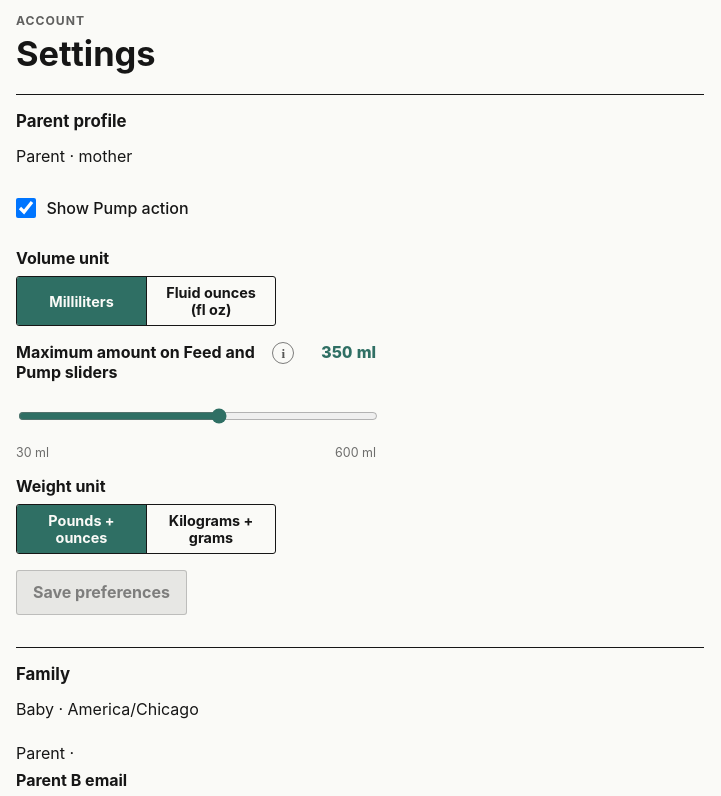
Settings volume preference › presents global volume and weight preferences with one shared maximum
Expected: the radio button named "preferred-volume-unit" holds "ml", [17,277,146,326]
Expected: the radio button named "preferred-volume-unit" is checked, [17,277,146,326]
Click the button with class "help-tooltip-trigger" at (283, 364), box [261,342,305,386]
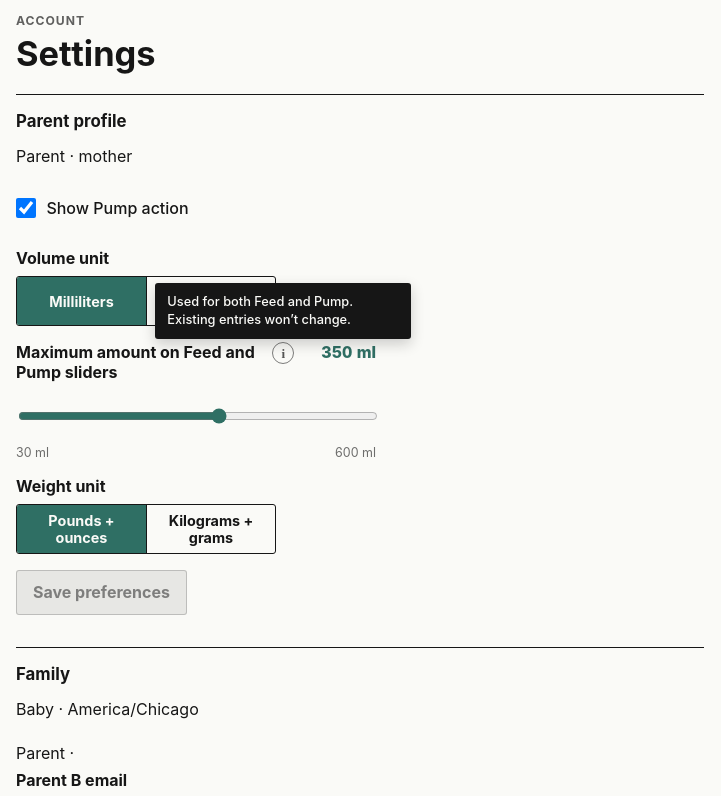
Click the radio button named "preferred-volume-unit" at (210, 301), box [146,277,275,326]
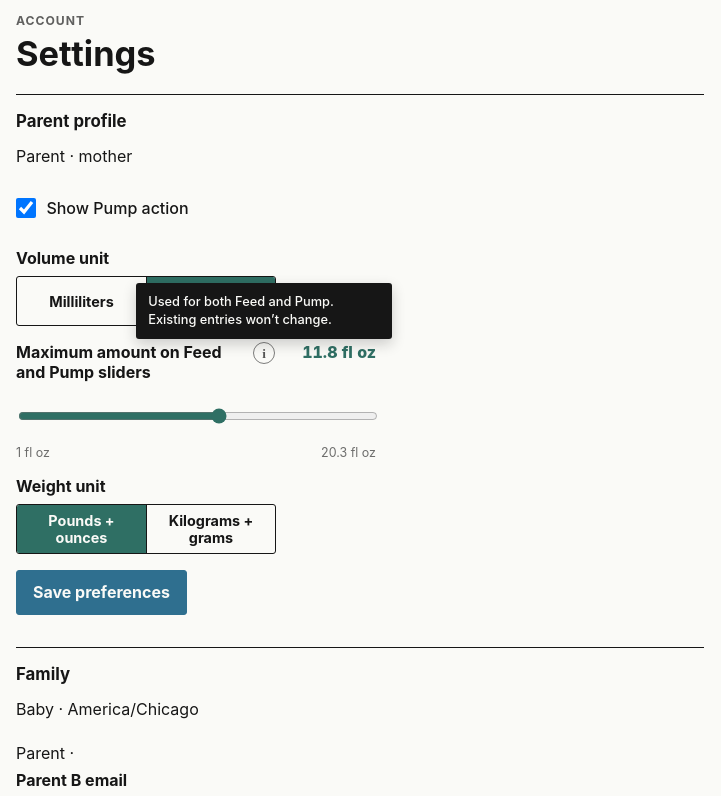
Expected: the text "11.8 fl oz" is shown, [302,342,376,362]
Expected: the button with class "settings-save" is enabled, [16,570,187,615]
Click the radio button named "preferred-volume-unit" at (82, 301), box [49,293,114,310]
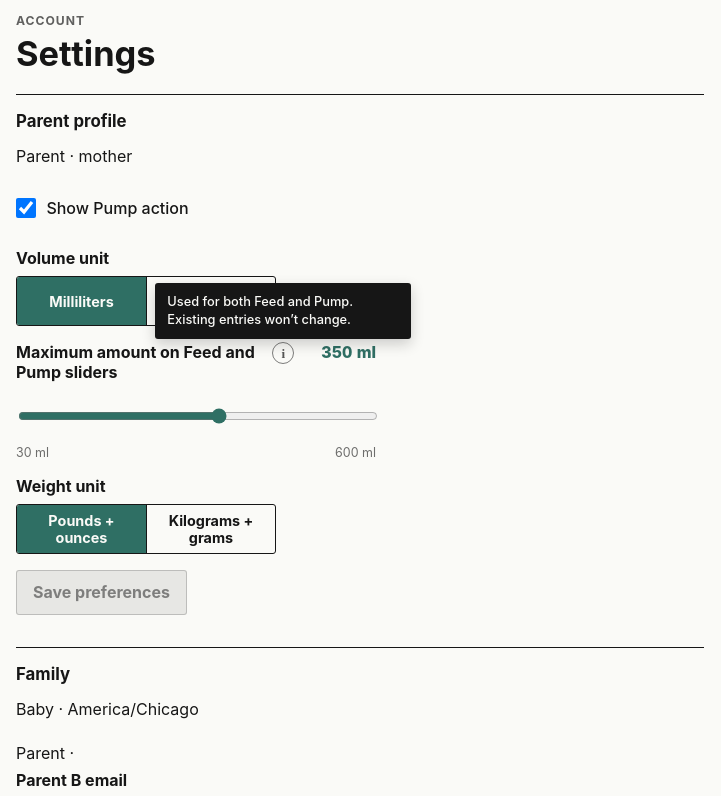
Expected: the button with class "settings-save" is disabled, [16,570,187,615]
Set the slider labelled "Maximum amount on Feed and Pump sliders" to "90" at (62, 416), box [18,392,378,440]
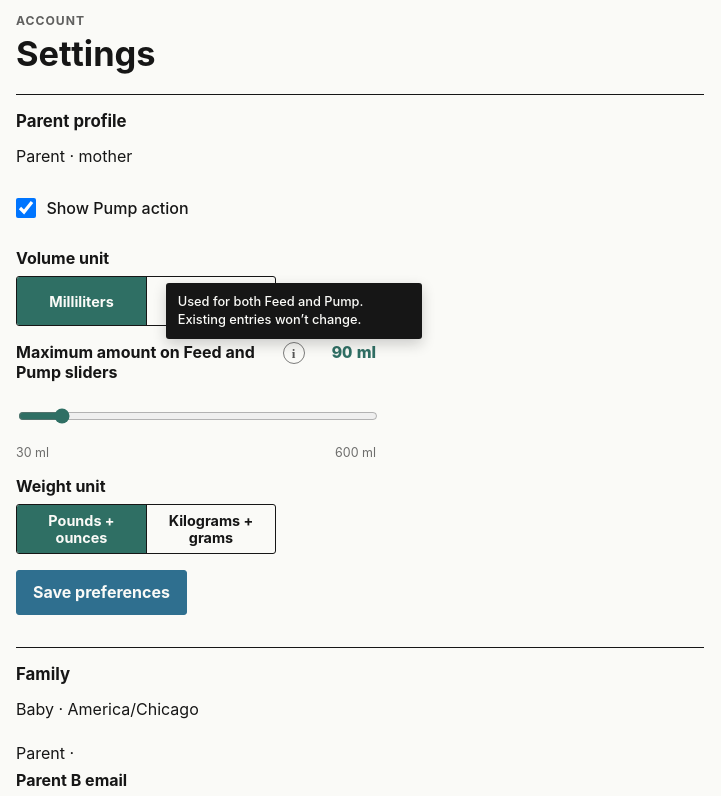
Expected: the radio button named "preferred-weight-unit" is checked, [17,505,146,553]
Expected: the button with class "settings-save" is enabled, [16,570,187,615]
